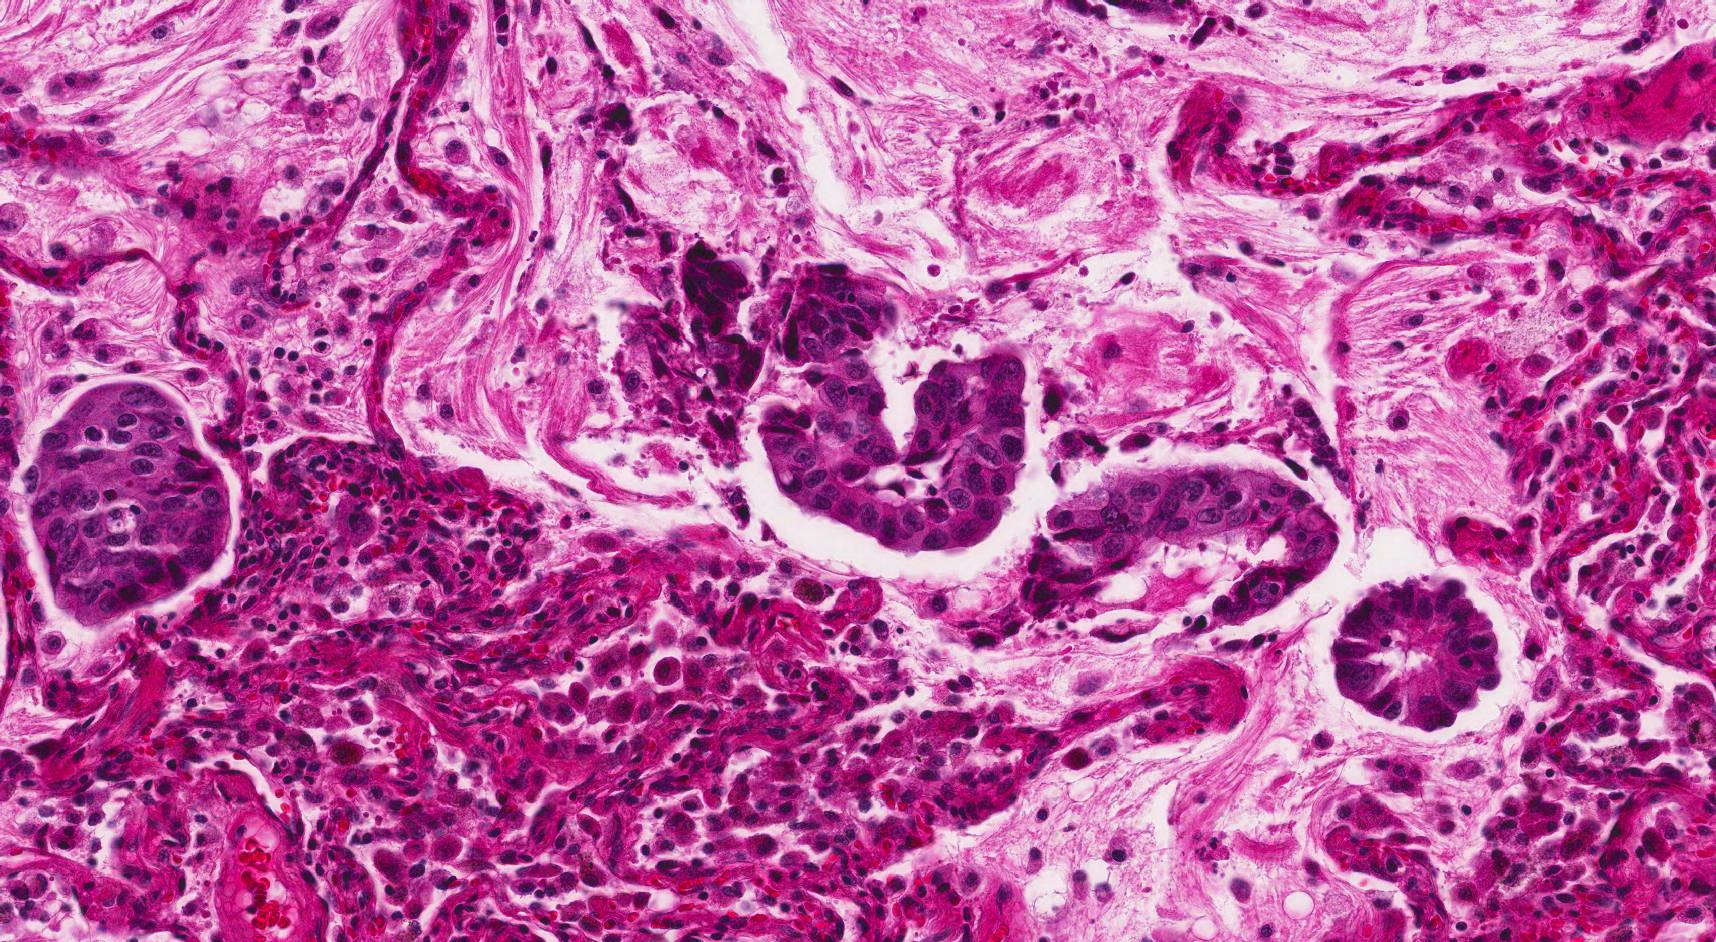stas: (763, 279, 1028, 552), (1024, 462, 1342, 644), (24, 380, 229, 625), (1330, 578, 1501, 729), (679, 246, 763, 398)
